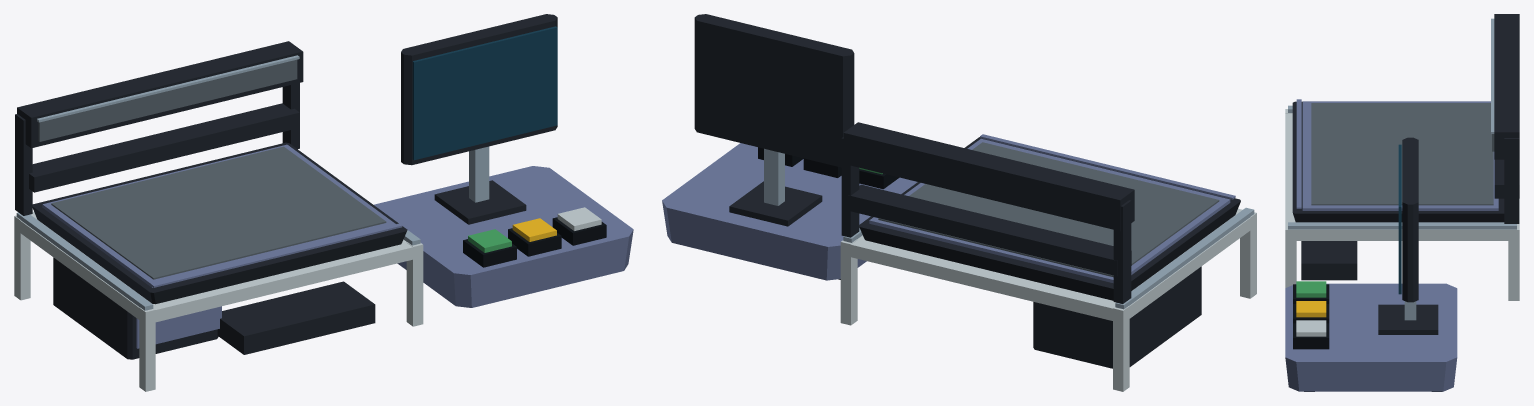
File: echo-cellcyte-gen2.glb
3 views of the same model, side by side, from view 1: azimuth 30°, elevation 25°; view 2: azimuth 150°, elevation 25°; view 3: azimuth 270°, elevation 25° (orthographic). The views are drawn at different scales.
Visible parts, largest first — view 1: fixed_deck, rear_arch, desk, drawing_display, under_deck, frame, select_complete, select_blank, select_cropped; view 2: rear_arch, fixed_deck, drawing_display, desk, frame, under_deck, select_complete; view 3: fixed_deck, desk, frame, rear_arch, drawing_display, under_deck, select_blank, select_complete, select_cropped.
Part boxes in pixels (box(x1,y1,x2,y2)): fixed_deck: box(32, 142, 407, 304); rear_arch: box(15, 41, 303, 215); desk: box(374, 146, 633, 307); drawing_display: box(401, 14, 557, 165); under_deck: box(53, 257, 375, 359); frame: box(14, 211, 423, 391); select_complete: box(463, 229, 516, 267); select_blank: box(552, 207, 606, 245); select_cropped: box(508, 218, 561, 256); rear_arch: box(841, 122, 1134, 303); fixed_deck: box(858, 134, 1240, 300); drawing_display: box(694, 14, 854, 167); desk: box(662, 143, 917, 280); frame: box(840, 207, 1256, 391); under_deck: box(1033, 266, 1201, 368); select_complete: box(859, 167, 899, 189); fixed_deck: box(1292, 99, 1504, 222); desk: box(1285, 283, 1457, 391); frame: box(1285, 105, 1519, 300); rear_arch: box(1491, 14, 1519, 223); drawing_display: box(1398, 137, 1418, 302); under_deck: box(1301, 241, 1357, 280); select_blank: box(1293, 320, 1329, 349); select_complete: box(1293, 281, 1329, 303); select_cropped: box(1293, 301, 1329, 323).
Size of the model in its own units: 0.8821 by 0.3535 by 0.4064.
